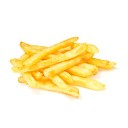frenchfries: (12, 41, 119, 96)
